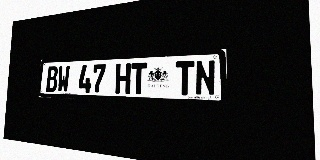4: (78, 65, 92, 93)
7: (91, 64, 106, 93)
B: (46, 66, 58, 92)
H: (115, 63, 131, 94)
N: (195, 60, 216, 96)
T: (175, 61, 194, 96), (131, 62, 147, 94)
W: (57, 66, 70, 93)
